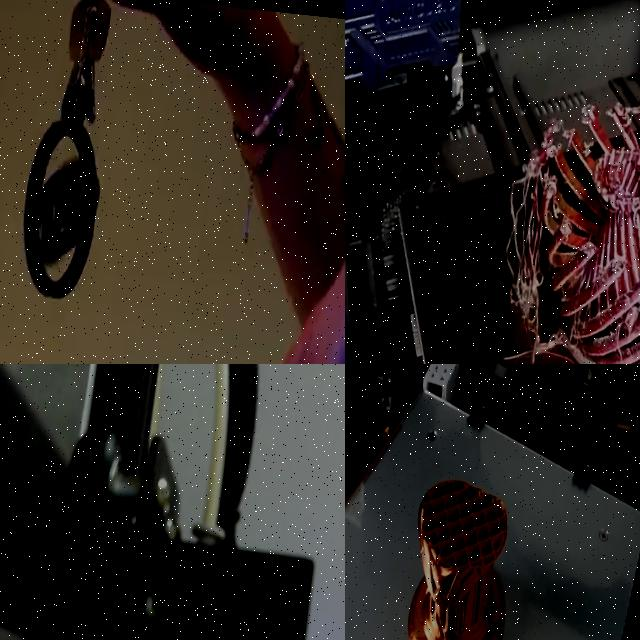spaghetti: (472, 145, 588, 364)
